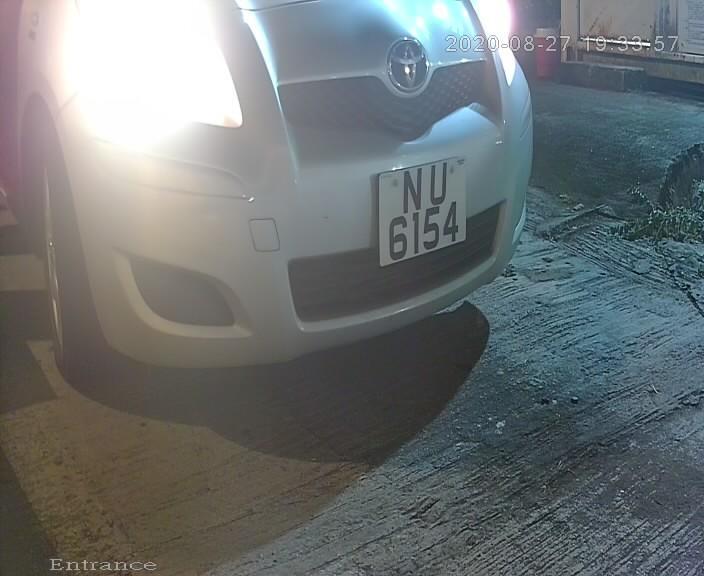License Plate: (345, 130, 495, 288)
